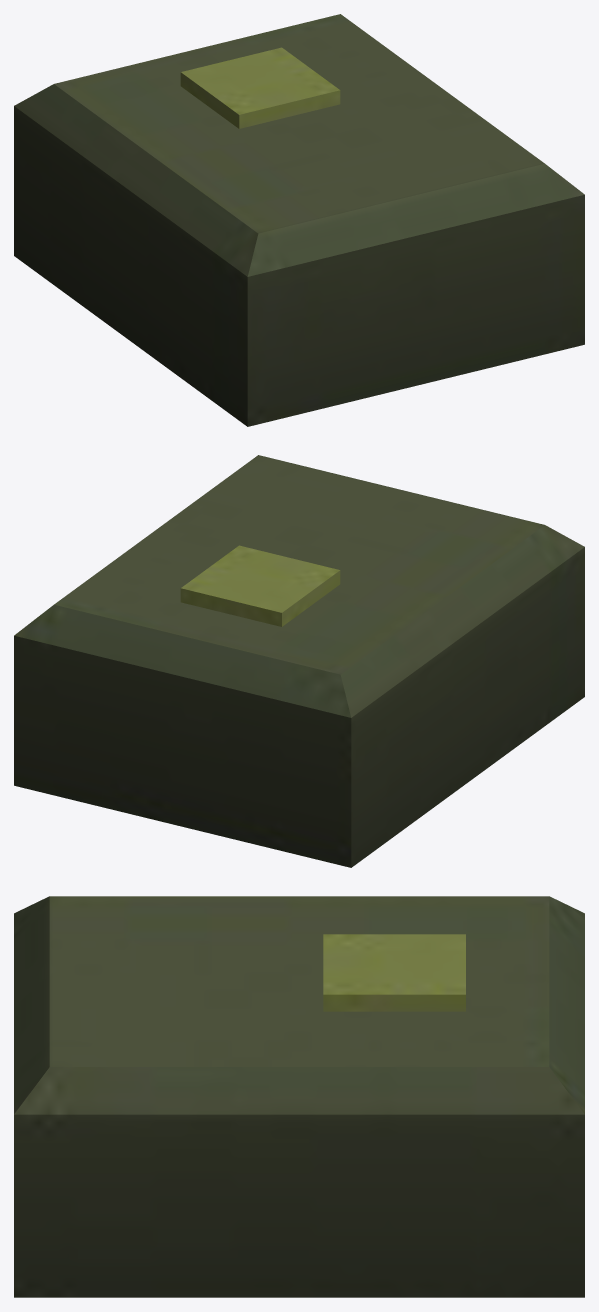
File: selector-combinator.glb
3 renders of one model, top to bottom at view 1: azimuth 30°, elevation 25°; view 2: azimuth 150°, elevation 25°; view 3: azimuth 270°, elevation 25°, orthographic. The views are drawn at different scales.
Visible parts, largest first — view 1: selector-combinator; view 2: selector-combinator; view 3: selector-combinator.
Boxes of the visible parts, bbox=[...] form: selector-combinator: bbox=[14, 14, 584, 426]; selector-combinator: bbox=[14, 455, 584, 867]; selector-combinator: bbox=[14, 896, 584, 1297].
Size of the model in its own units: 0.2 by 0.108 by 0.24.
Materials: 1 (1 with a texture image).
